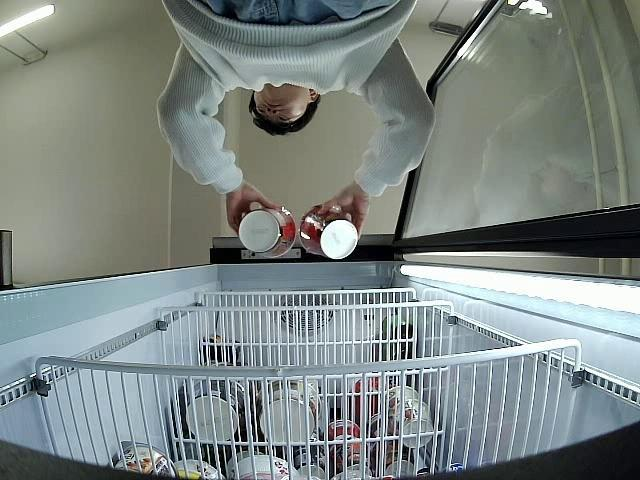01_ShinRamen_L: (236, 204, 298, 259), (299, 206, 358, 260)
